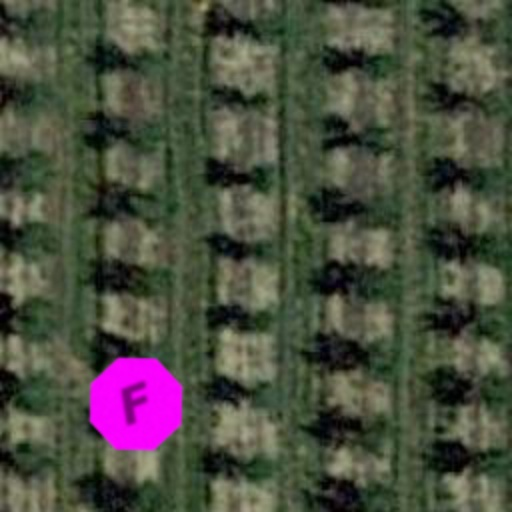octagon: (70, 338, 202, 470)
